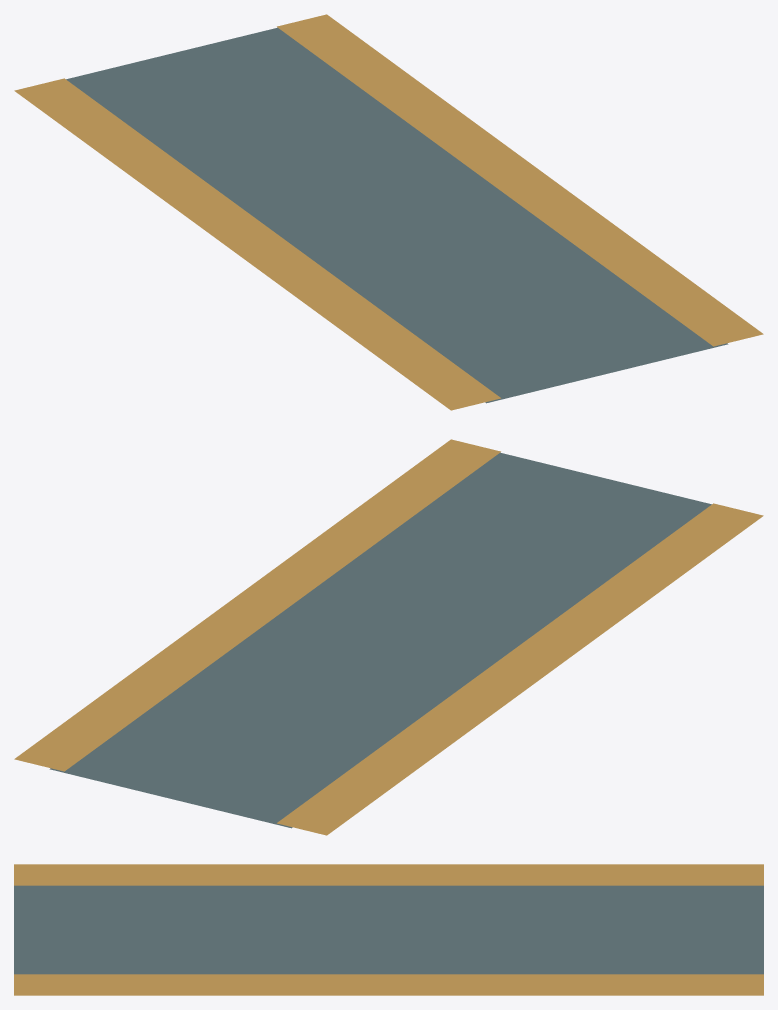
Rendered from river.glb.
The picture shows the model from 3 angles, top to bottom: view 1: azimuth 30°, elevation 25°; view 2: azimuth 150°, elevation 25°; view 3: azimuth 270°, elevation 25°; orthographic projection. The views are drawn at different scales.
Visible parts, largest first — view 1: River, BankL, BankR; view 2: River, BankL, BankR; view 3: River, BankL, BankR.
Boxes of the visible parts, x1,y1,x2,y2 form: River: (66, 27, 728, 403); BankL: (14, 78, 500, 410); BankR: (277, 14, 763, 346); River: (49, 452, 711, 828); BankL: (277, 503, 763, 835); BankR: (14, 439, 500, 771); River: (14, 885, 763, 974); BankL: (14, 864, 763, 885); BankR: (14, 974, 763, 995).
Bounding box in the file's own units: 12.4 × 0.05 × 30.
